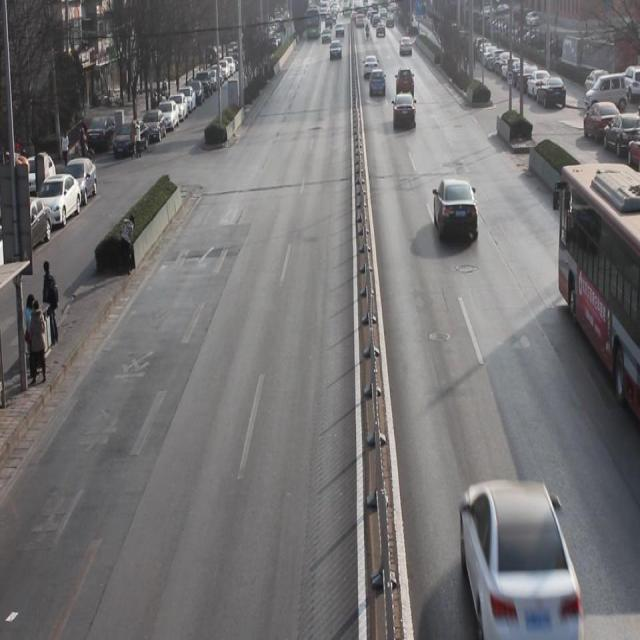car: (460, 481, 581, 631), (432, 177, 480, 245), (392, 95, 417, 134), (394, 69, 414, 95), (369, 68, 386, 98)
van: (558, 167, 640, 416)
